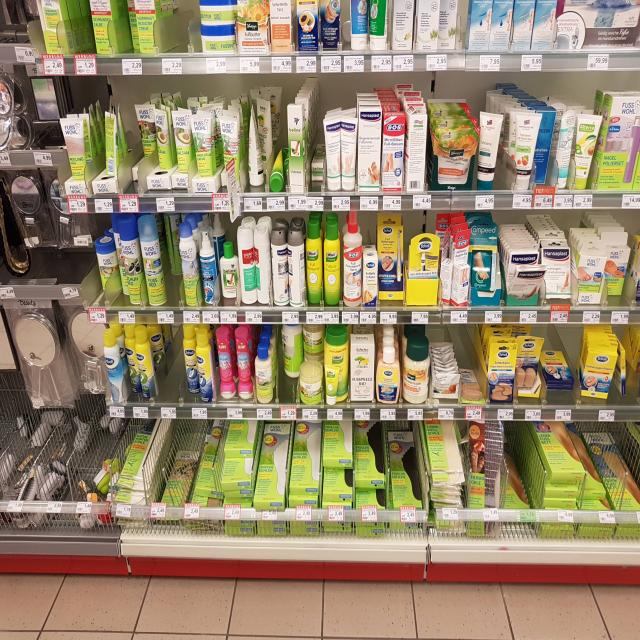unorganised: (576, 326, 635, 401), (269, 229, 307, 308), (182, 327, 213, 405), (325, 118, 357, 192), (243, 105, 270, 189), (406, 108, 430, 196), (478, 111, 504, 188), (350, 1, 386, 51), (509, 254, 548, 300), (98, 109, 122, 181), (159, 211, 180, 288), (604, 245, 630, 304), (152, 105, 174, 171), (253, 227, 271, 306), (538, 109, 555, 191), (558, 111, 574, 190), (135, 104, 156, 161), (121, 327, 137, 401), (280, 325, 300, 380), (439, 1, 461, 51), (121, 1, 137, 53), (112, 221, 122, 303), (270, 145, 286, 194), (312, 154, 325, 184)
